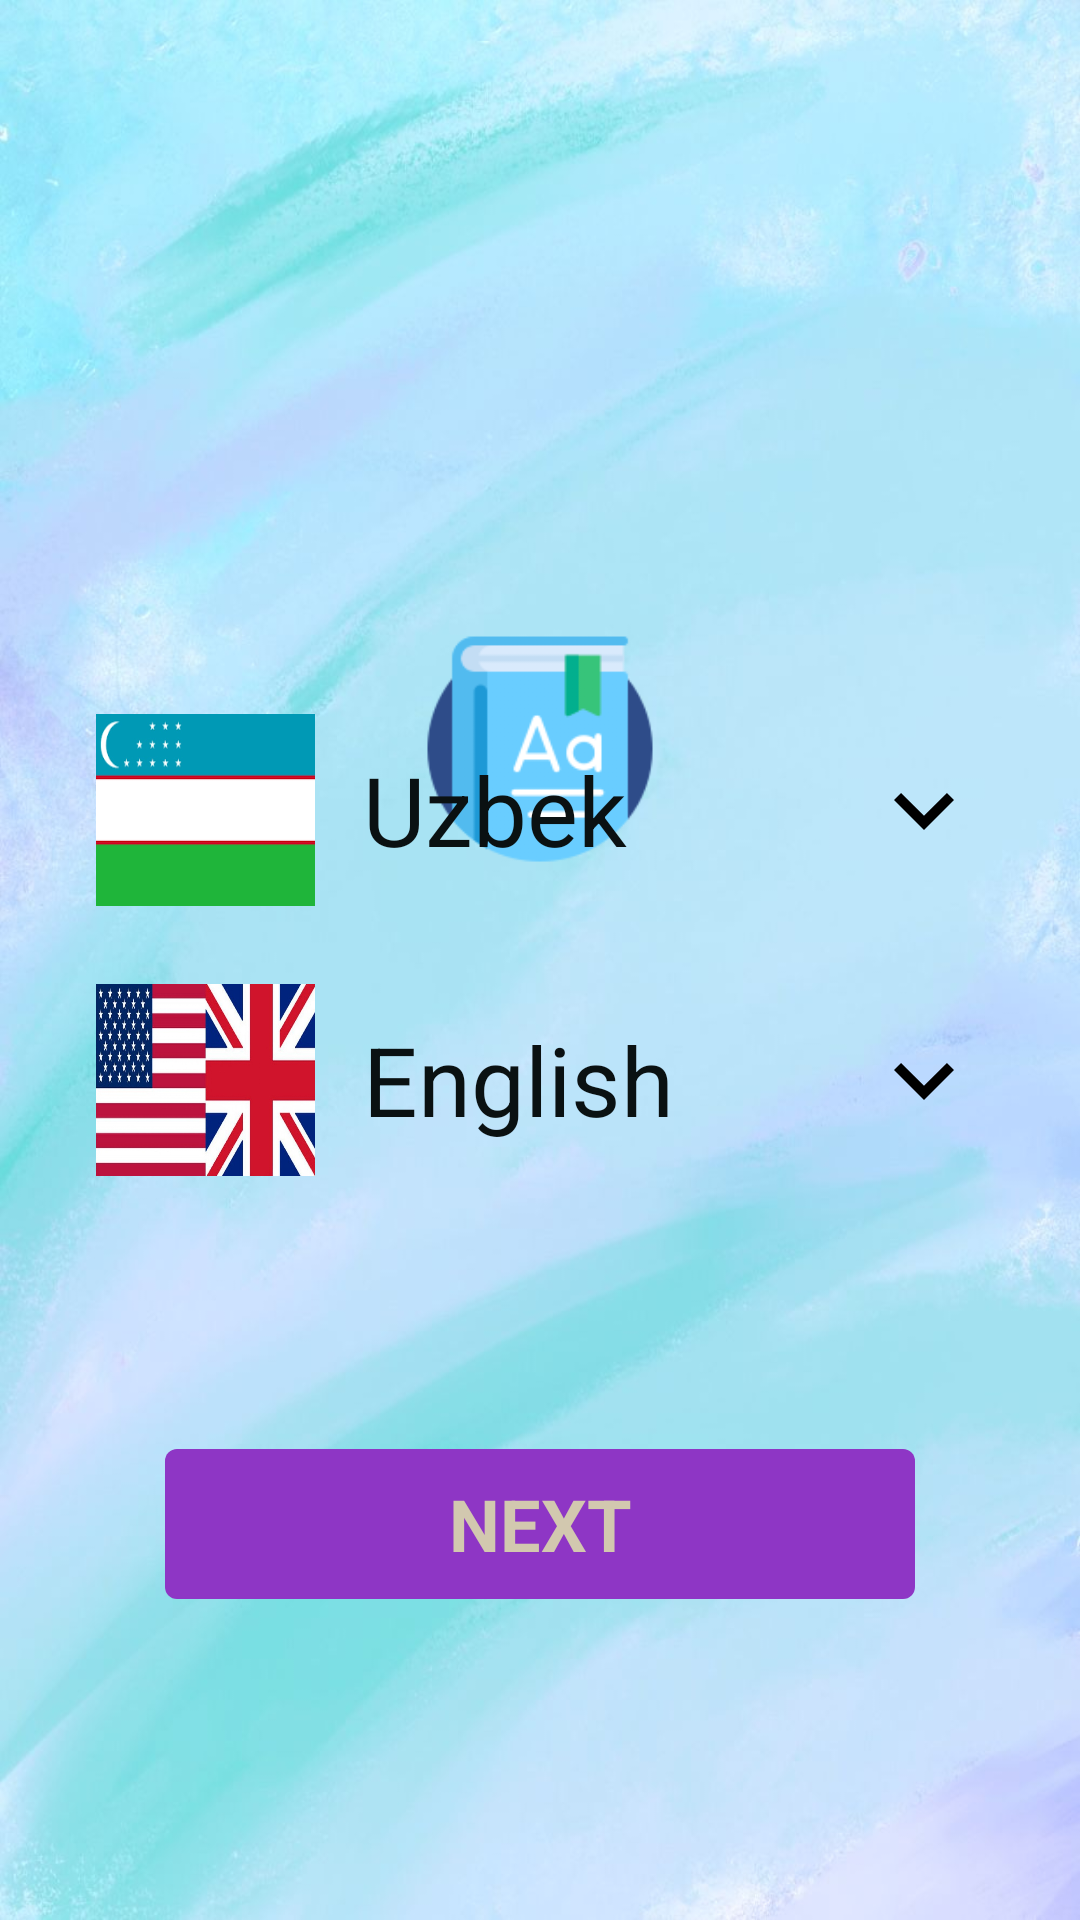

Where to tap for icons on this 1080x1920 app screen, as [x,y]:
country england usa mix: [205,1080]
country uzb: [205,810]
